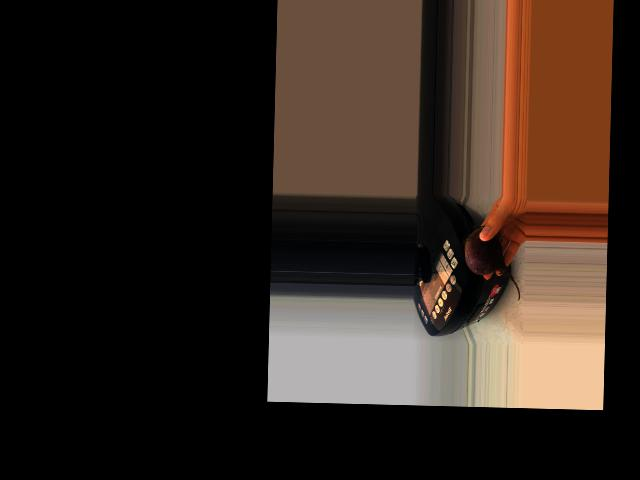beet: (461, 225, 521, 300)
